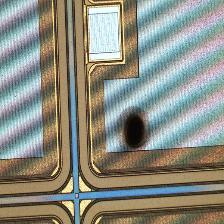PARTICLE: (116, 106, 153, 156)
